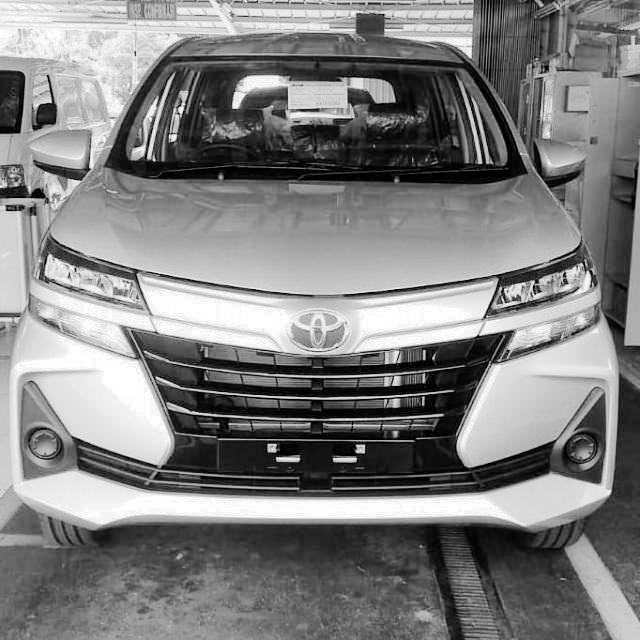Car: (25, 25, 617, 535)
